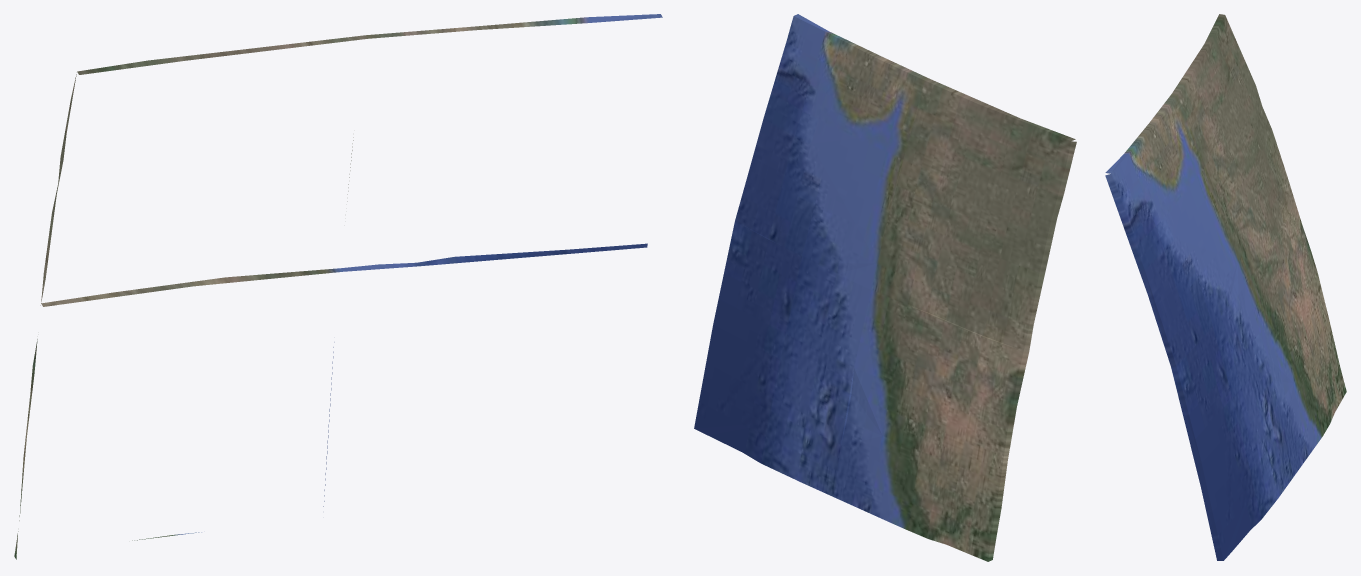
3 views of the same model, side by side, from view 1: azimuth 30°, elevation 25°; view 2: azimuth 150°, elevation 25°; view 3: azimuth 270°, elevation 25° (orthographic). The views are drawn at different scales.
Size of the model in its own units: 1255379 by 1208043 by 711946.
1 material, 1 textured.
